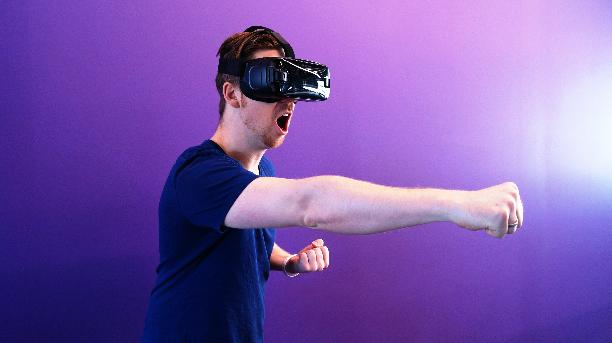Rock: (459, 176, 529, 242), (287, 236, 332, 283)
